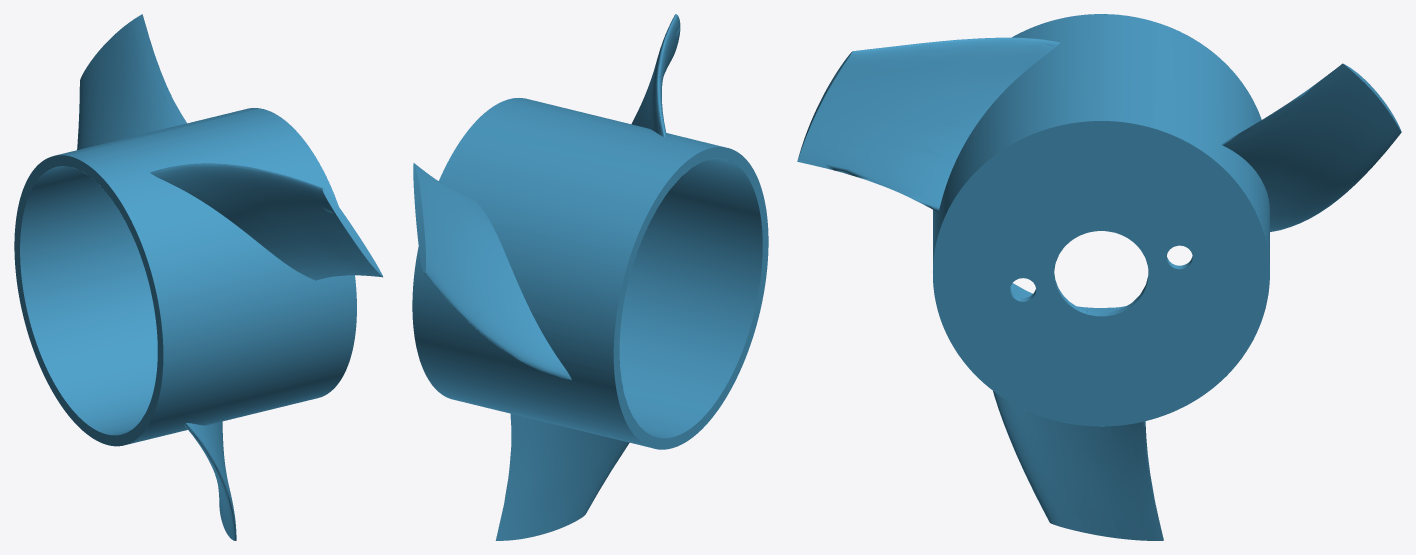
Rendered from prop.dae.
3 views of the same model, side by side, from view 1: azimuth 30°, elevation 25°; view 2: azimuth 150°, elevation 25°; view 3: azimuth 270°, elevation 25° (orthographic). The views are drawn at different scales.
Visible parts, largest first — view 1: Blue_ROV_Propeller; view 2: Blue_ROV_Propeller; view 3: Blue_ROV_Propeller.
Part boxes in pixels (x1,y1,x2,y2): Blue_ROV_Propeller: (14, 14, 382, 540); Blue_ROV_Propeller: (412, 14, 768, 540); Blue_ROV_Propeller: (797, 14, 1401, 540).
Bounding box in the file's own units: 0.0442 × 0.1055 × 0.093.
